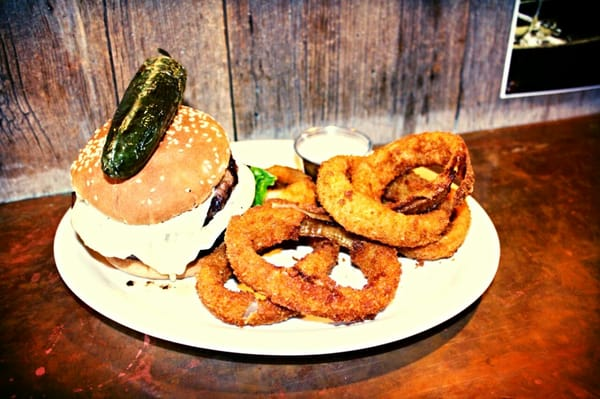soup: (69, 47, 254, 281), (316, 131, 476, 264)
